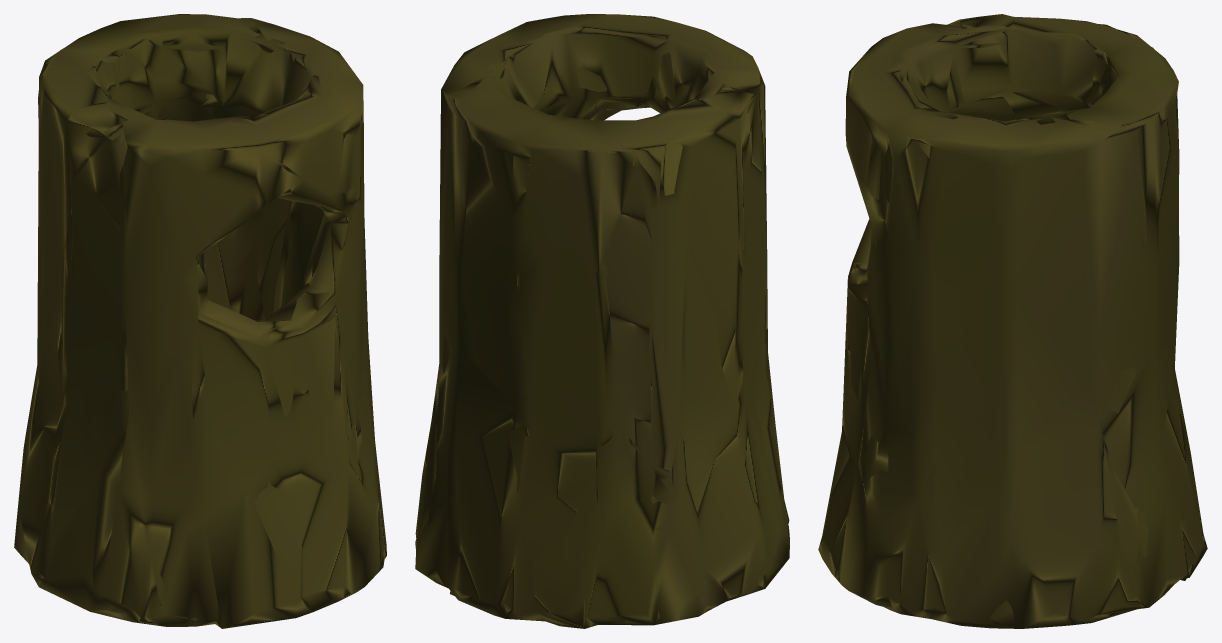
The model's file is gen3d-hollow-tree-trunk-lod0.glb.
The picture shows the model from 3 angles, left to right: view 1: azimuth 30°, elevation 25°; view 2: azimuth 150°, elevation 25°; view 3: azimuth 270°, elevation 25°; orthographic projection.
Visible parts, largest first — view 1: part_0; view 2: part_0; view 3: part_0.
Part boxes in pixels (x1,y1,x2,y2): part_0: (14, 14, 386, 628); part_0: (415, 14, 789, 628); part_0: (818, 14, 1207, 628).
Size of the model in its own units: 0.716 by 0.9999 by 0.7391.
